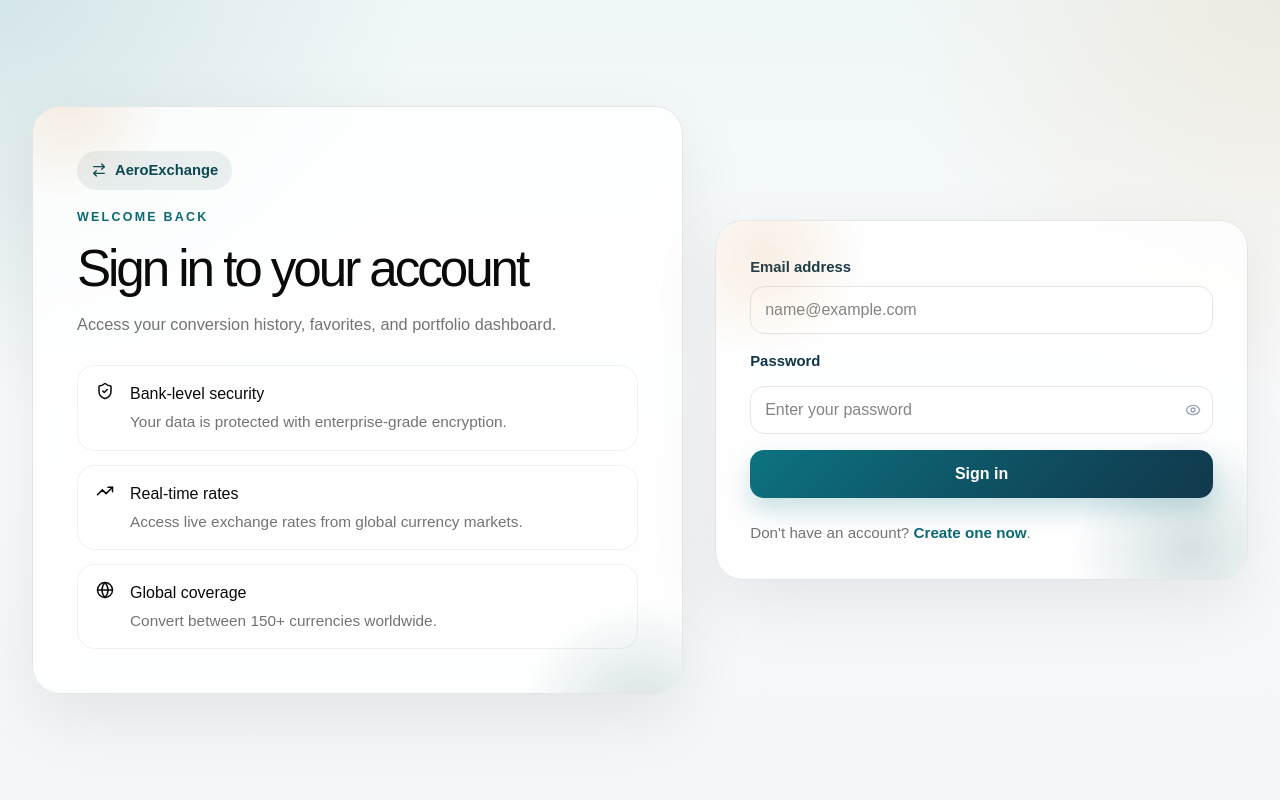
Test: LoginPage › shows validation error for empty email on submit
Click the button "Sign in" at (982,474), box [750,450,1213,498]
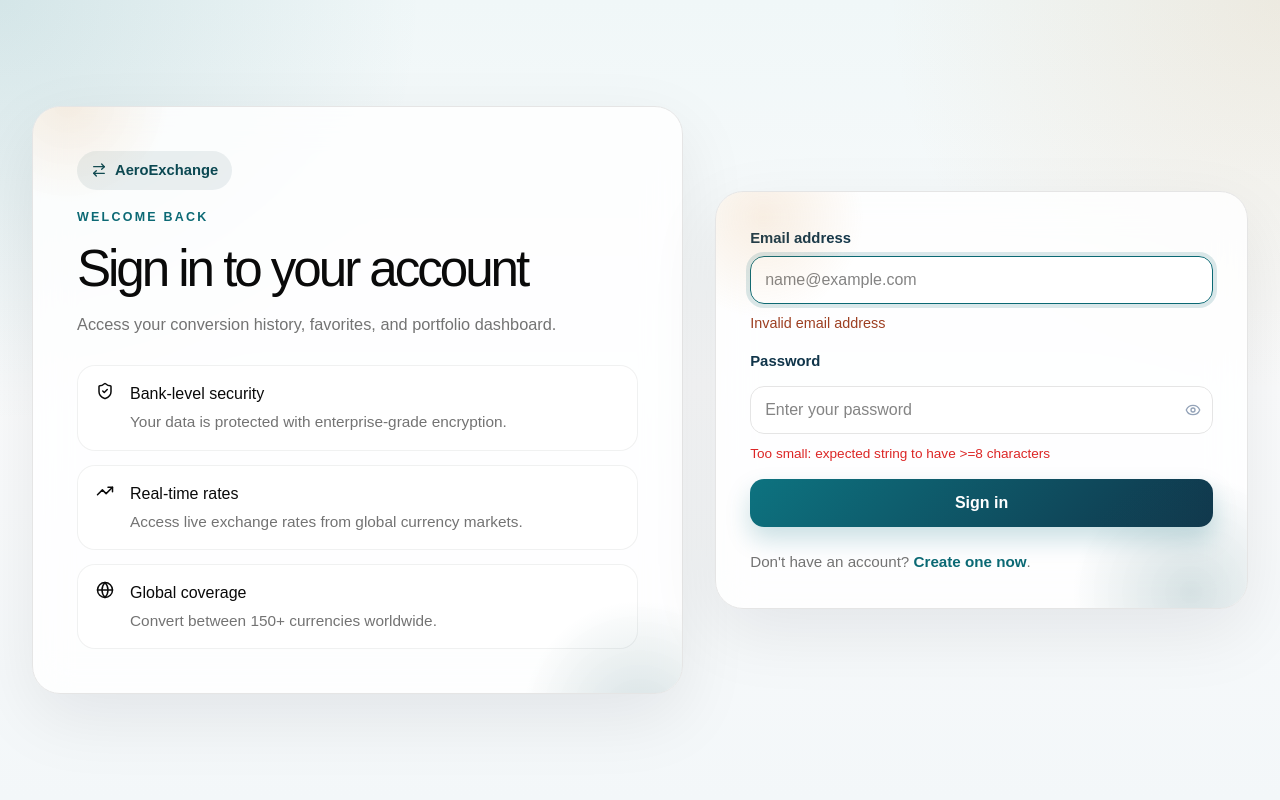
Result: the text "Invalid email address" is shown at [750,315,885,331]
